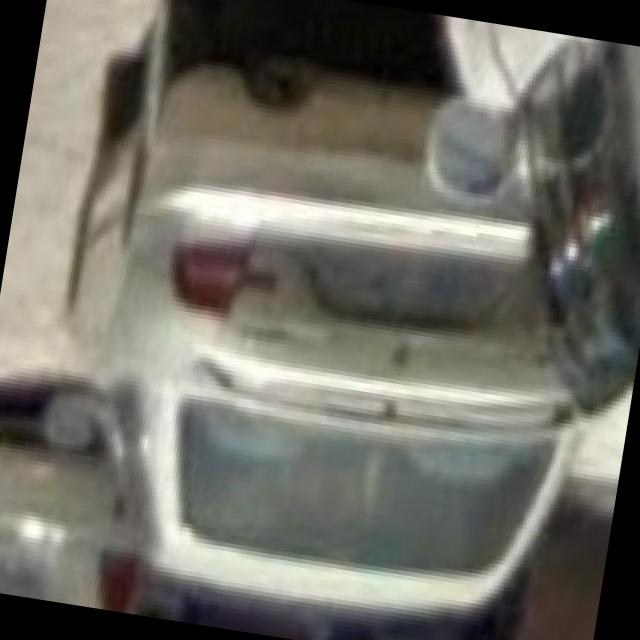car: (13, 0, 631, 640)
